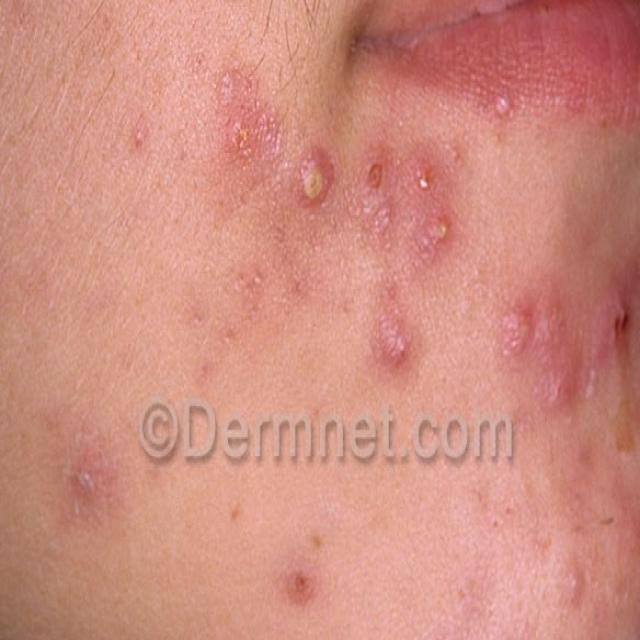Acne: (525, 244, 640, 489), (361, 145, 468, 370), (52, 424, 122, 539), (215, 53, 273, 165), (555, 548, 640, 619), (281, 152, 352, 229), (284, 552, 327, 619), (487, 67, 525, 142)
